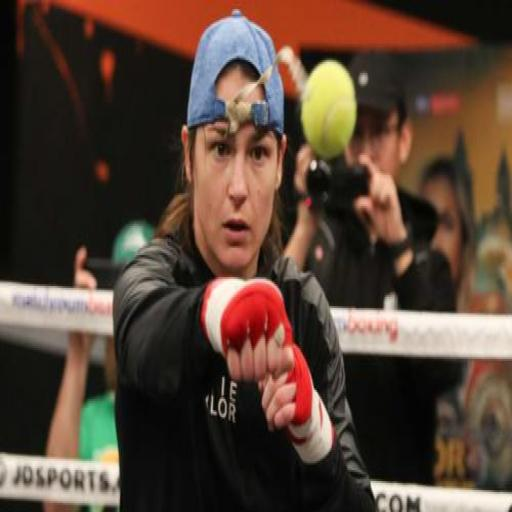boxing: (116, 17, 390, 512)
